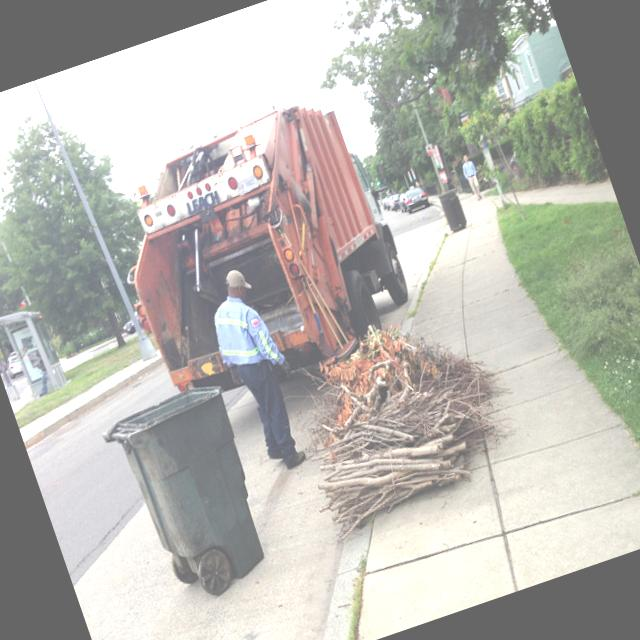Vehicle: (88, 89, 424, 421), (399, 183, 431, 214), (3, 353, 26, 380), (119, 310, 142, 336), (395, 192, 411, 212), (390, 193, 403, 210), (387, 194, 397, 209), (384, 197, 394, 210), (382, 197, 389, 208)
